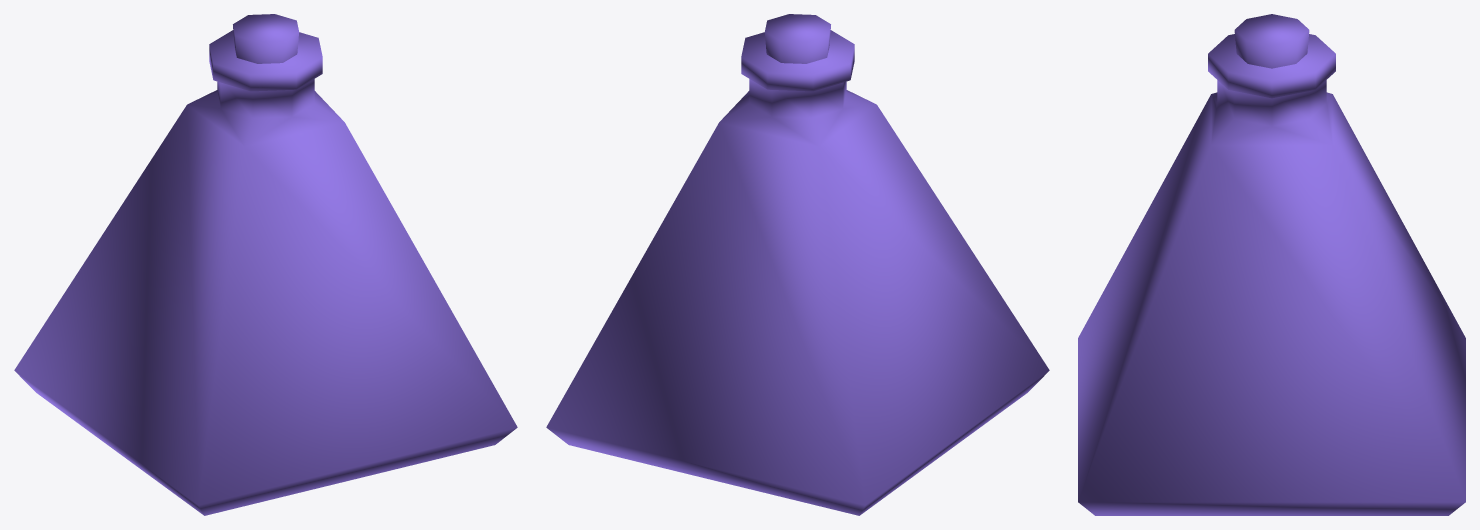
File: bottle3_lowpoly.fbx
3 renders of one model, left to right at view 1: azimuth 30°, elevation 25°; view 2: azimuth 150°, elevation 25°; view 3: azimuth 270°, elevation 25°, orthographic. The views are drawn at different scales.
Parts seen in each view (by area): view 1: bottle3.lowpoly; view 2: bottle3.lowpoly; view 3: bottle3.lowpoly.
Part boxes in pixels (bbox=[...]): bottle3.lowpoly: bbox=[14, 14, 517, 515]; bottle3.lowpoly: bbox=[546, 14, 1049, 515]; bottle3.lowpoly: bbox=[1078, 14, 1465, 515].
Bounding box in the file's own units: 10.11 × 11.83 × 10.11.
